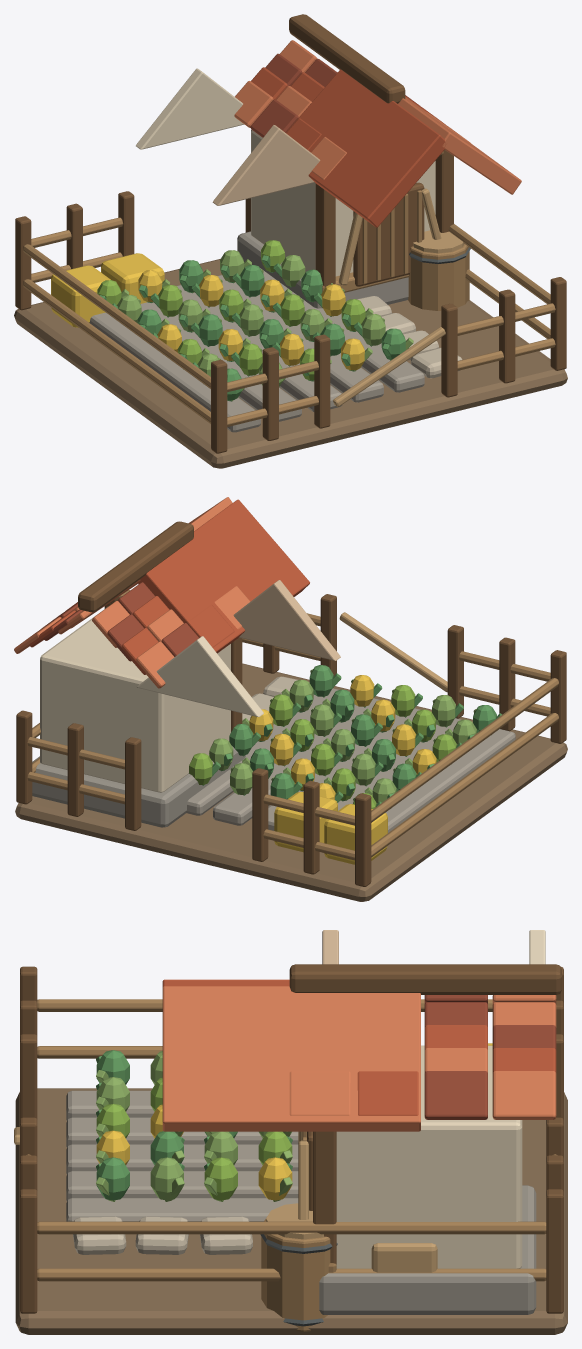
File: farm.glb
3 views of the same model, one above another, from view 1: azimuth 30°, elevation 25°; view 2: azimuth 150°, elevation 25°; view 3: azimuth 270°, elevation 25° (orthographic). The views are drawn at different scales.
Visible parts, largest first — view 1: Farmstead_Geometry; view 2: Farmstead_Geometry; view 3: Farmstead_Geometry.
Part boxes in pixels (<box>): Farmstead_Geometry: <box>14,14,567,468</box>; Farmstead_Geometry: <box>14,497,567,901</box>; Farmstead_Geometry: <box>14,930,567,1334</box>.
Bounding box in the file's own units: 2.38 × 1.53 × 2.36.
